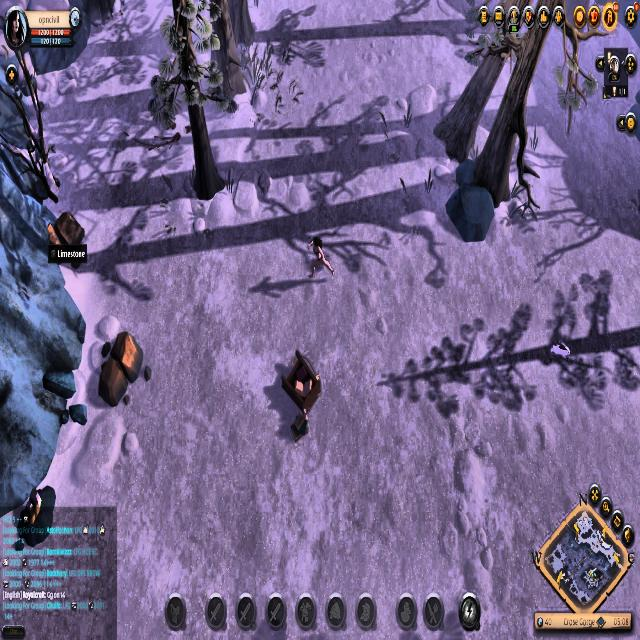copper_ore: (94, 323, 150, 414), (19, 481, 60, 547)
limestone: (48, 205, 95, 268)
